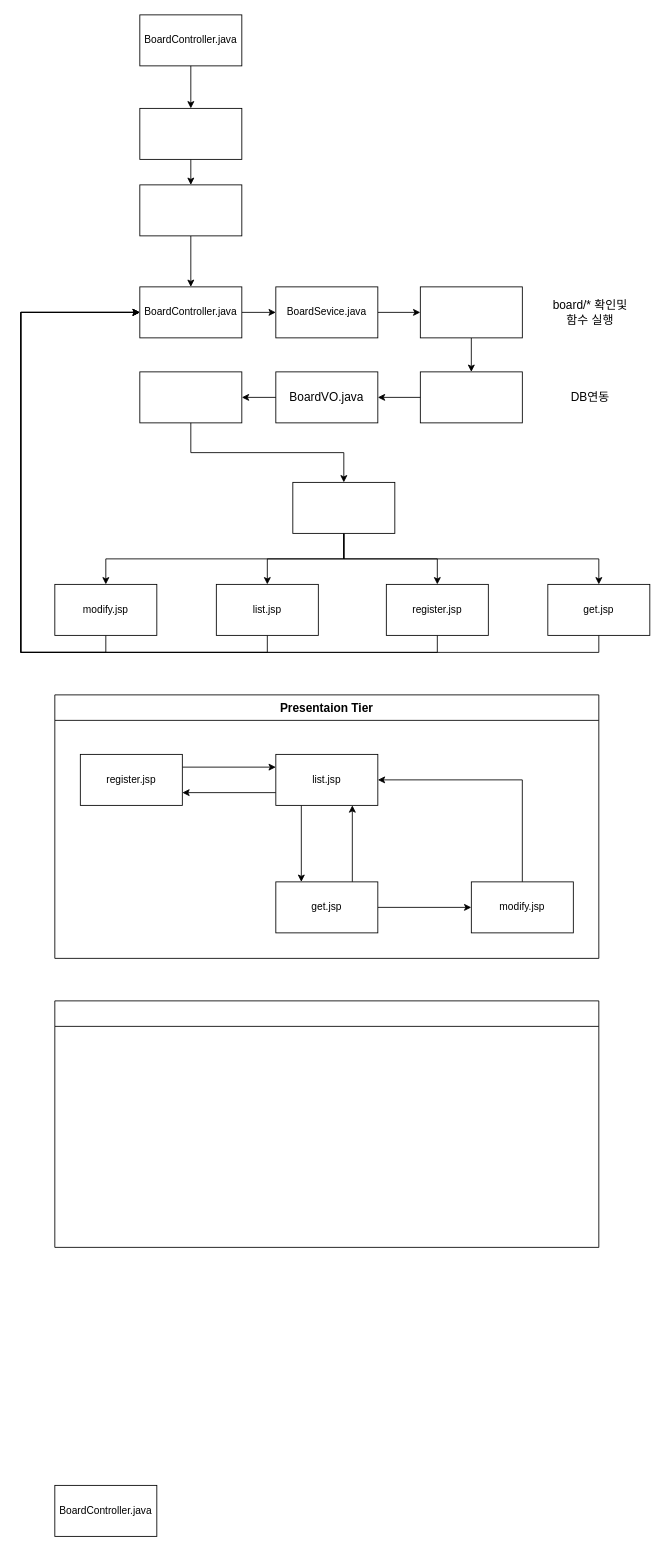
This 665x1551 diagram has some shape labels left out. Each missing label, with the centre of its shape:
"@Controller" goes at point (190, 133).
"BoardMapper.java" goes at point (470, 397).
"BoardMapper.xml" goes at point (190, 397).
"BoardSeviceImpl.java" goes at point (470, 312).
"Persistence Tier" goes at point (326, 1123).
"servlet-context.xml" goes at point (190, 210).
"view" goes at point (343, 507).
